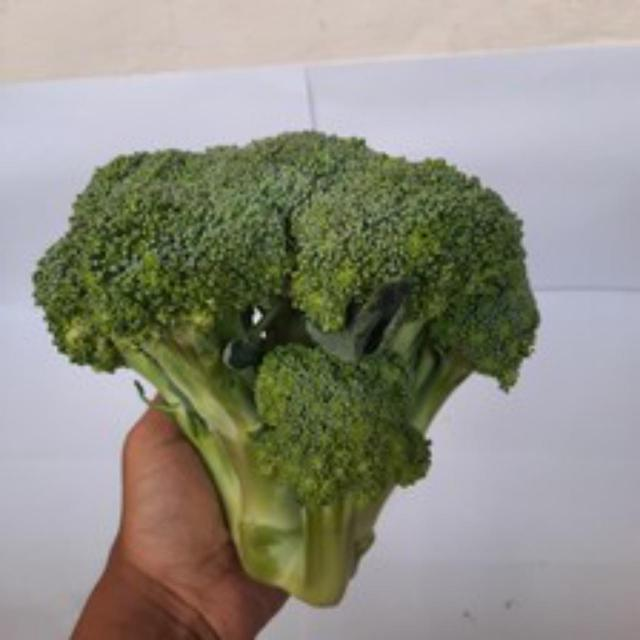broccoli: (31, 128, 542, 613)
